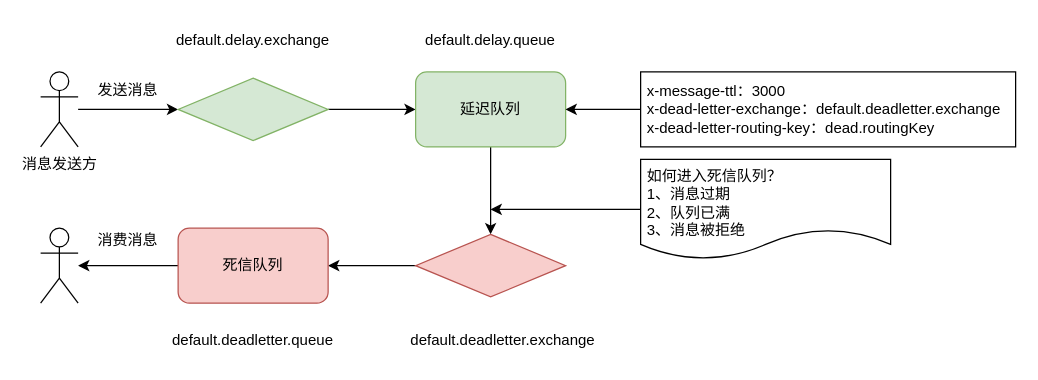
This 1038x380 diagram has some shape labels left out. Here are the shapes that lost their labels. From the top down, the centre of each, then its label:
the point at 252,109: 延迟交换机
the point at 58,265: 消息接收方
the point at 490,265: 死信交换机
